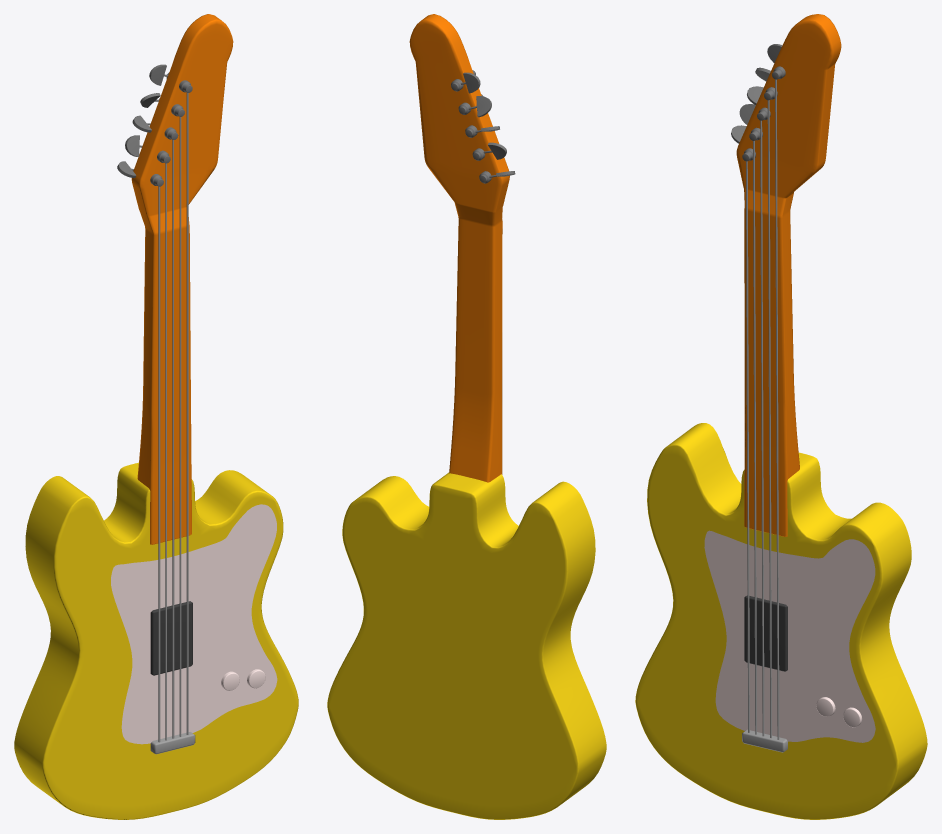
Rendered from Store_13_Guitar_1.glb.
3 views of the same model, side by side, from view 1: azimuth 30°, elevation 25°; view 2: azimuth 150°, elevation 25°; view 3: azimuth 330°, elevation 25° (orthographic). The views are drawn at different scales.
Visible parts, largest first — view 1: Store_13_Guitar_1; view 2: Store_13_Guitar_1; view 3: Store_13_Guitar_1.
Boxes of the visible parts, x1,y1,x2,y2 form: Store_13_Guitar_1: (14, 14, 298, 819); Store_13_Guitar_1: (327, 14, 606, 819); Store_13_Guitar_1: (635, 14, 927, 819).
Bounding box in the file's own units: 0.8143 × 2.37 × 0.1873.
1 material, 1 textured.
